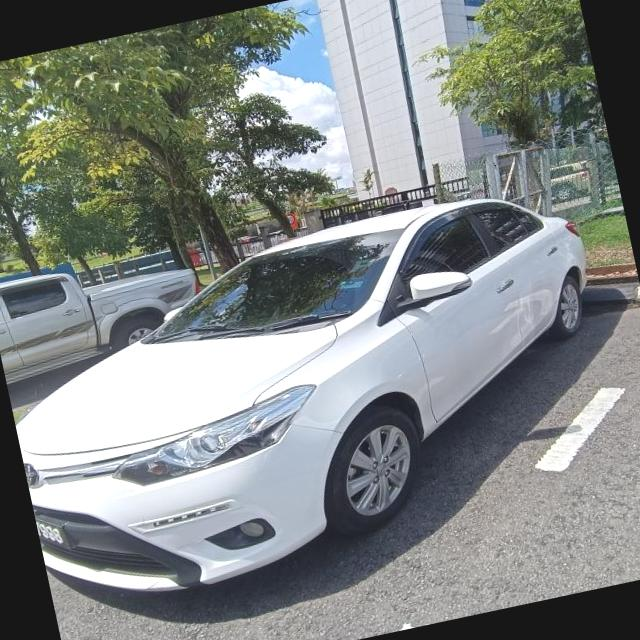ToyotaVios: (0, 171, 638, 617)
